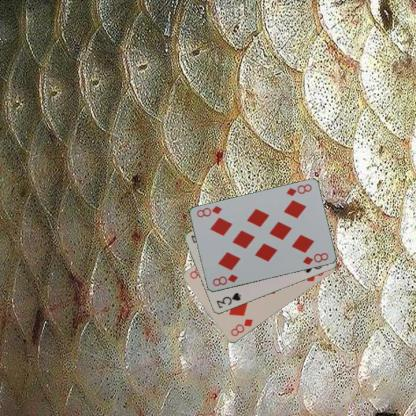3s: (214, 290, 242, 310)
8d: (228, 317, 254, 338), (210, 272, 239, 288), (284, 182, 312, 198)
